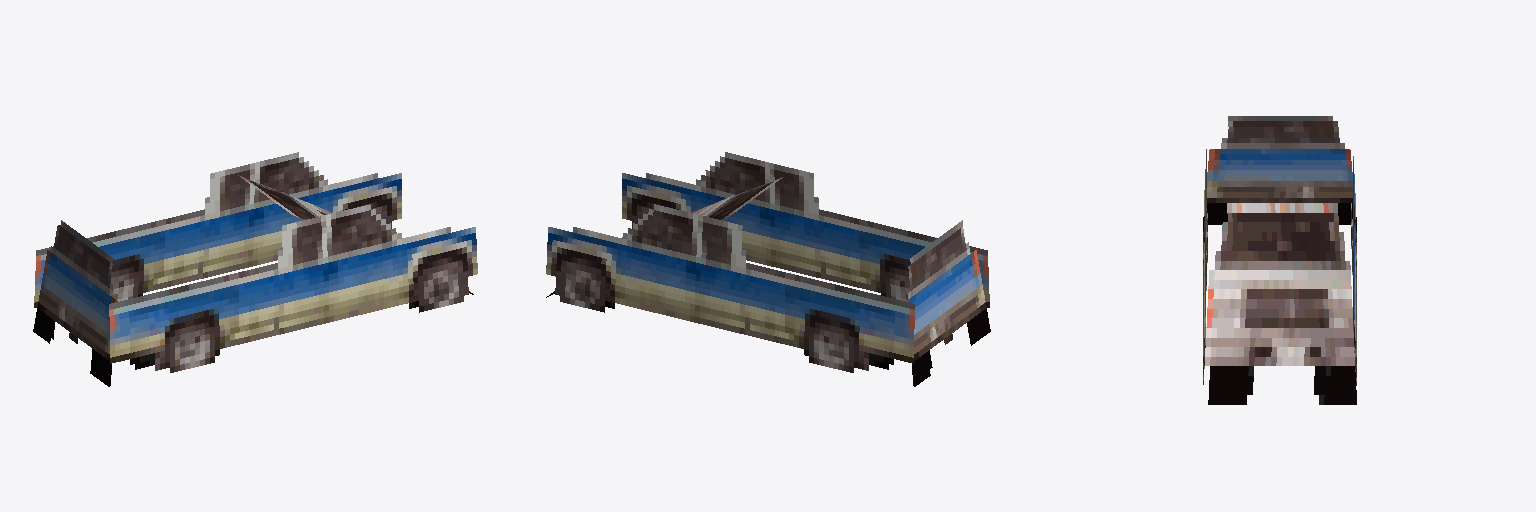
The picture shows the model from 3 angles: view 1: azimuth 30°, elevation 25°; view 2: azimuth 150°, elevation 25°; view 3: azimuth 270°, elevation 25°; orthographic projection.
Bounding box in the file's own units: 744 × 227 × 270.
Materials: 1 (1 with a texture image).